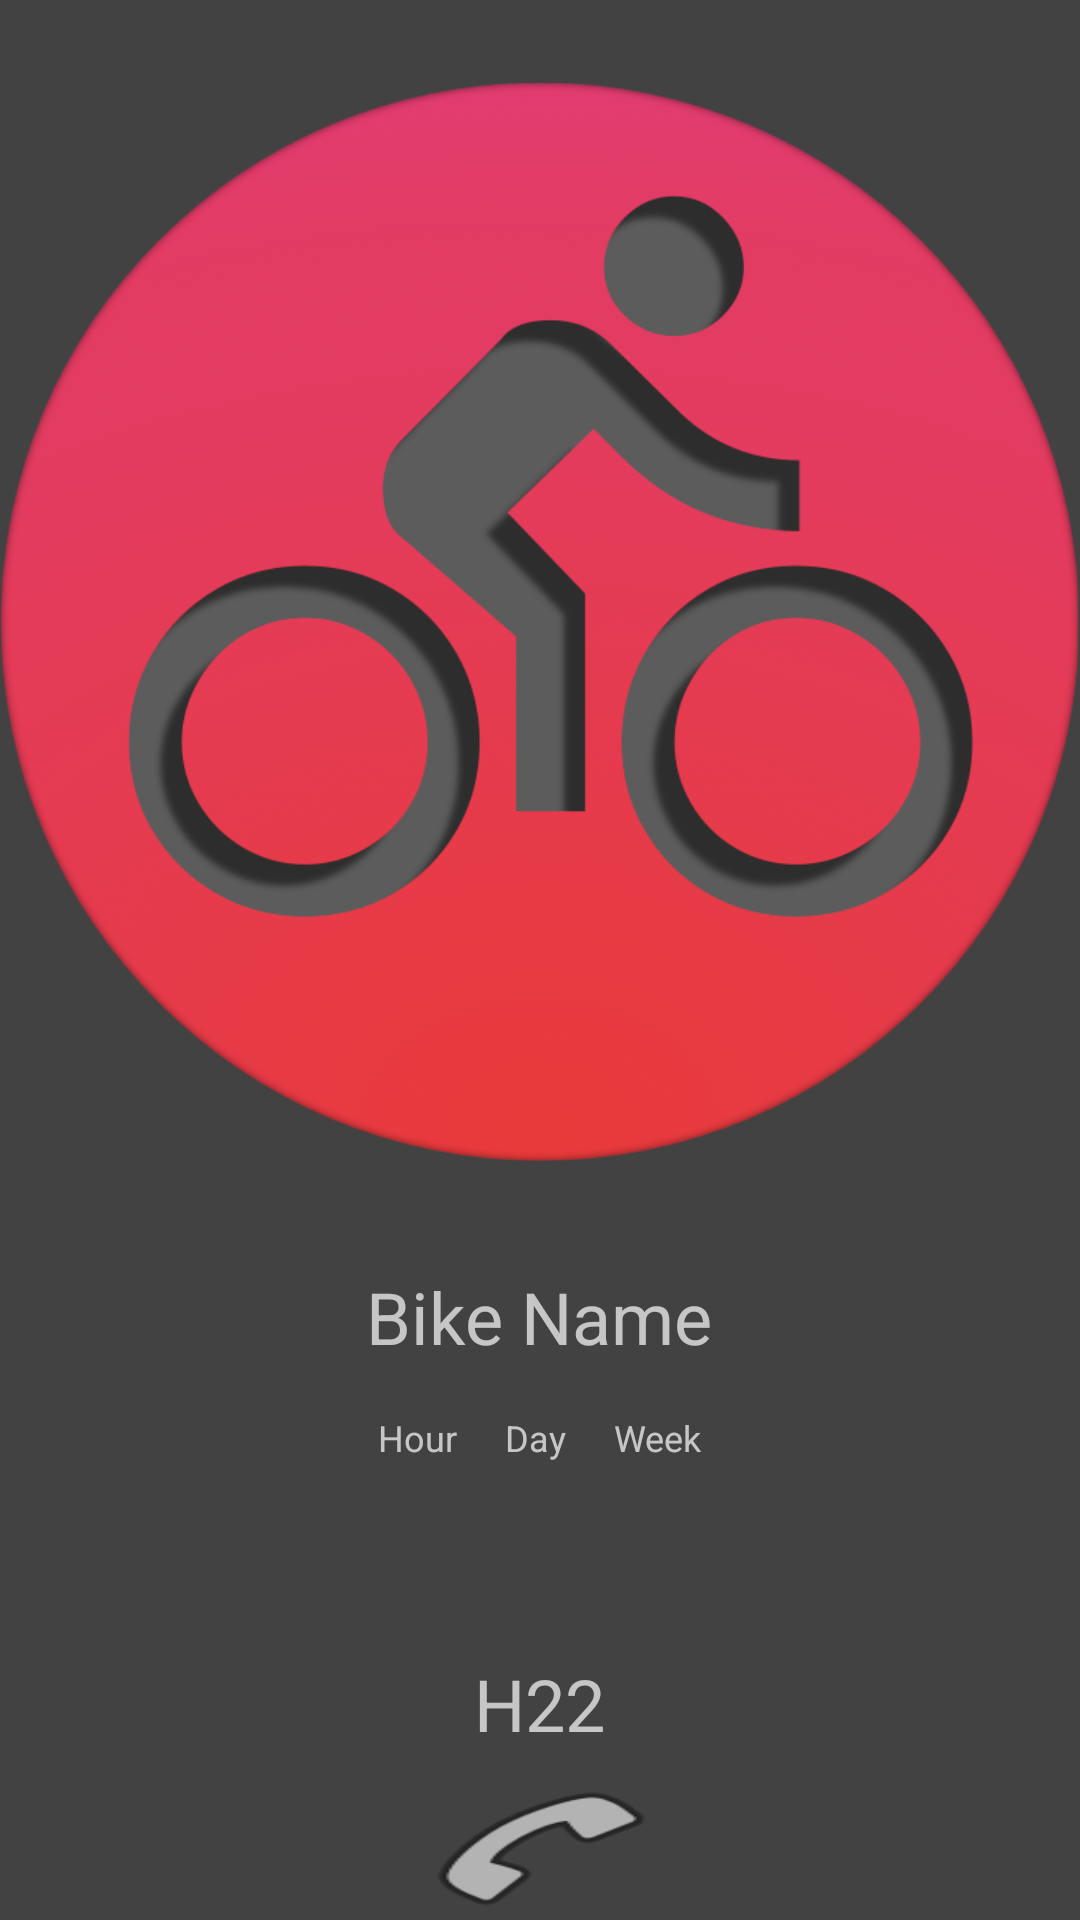

Named icons in this screenshot (1080 × 1920) and their bounding boxes, (x1, y1, x2, y2):
call: (442, 1794, 641, 1903)
